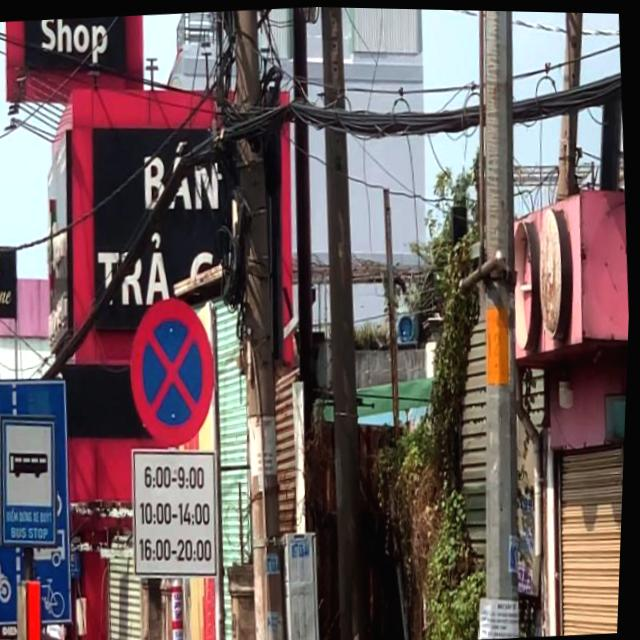Ben xe buyt: (0, 414, 67, 555)
Cam dung xe va do xe: (125, 291, 225, 450)
